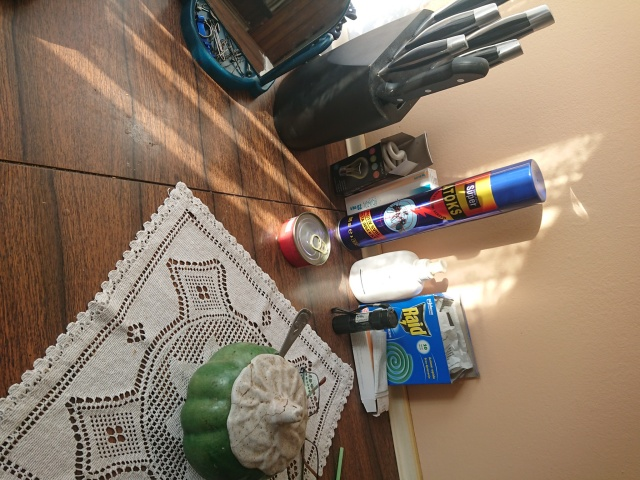Gavrilovic Pork Liver Pate 100g: (275, 209, 333, 270)
